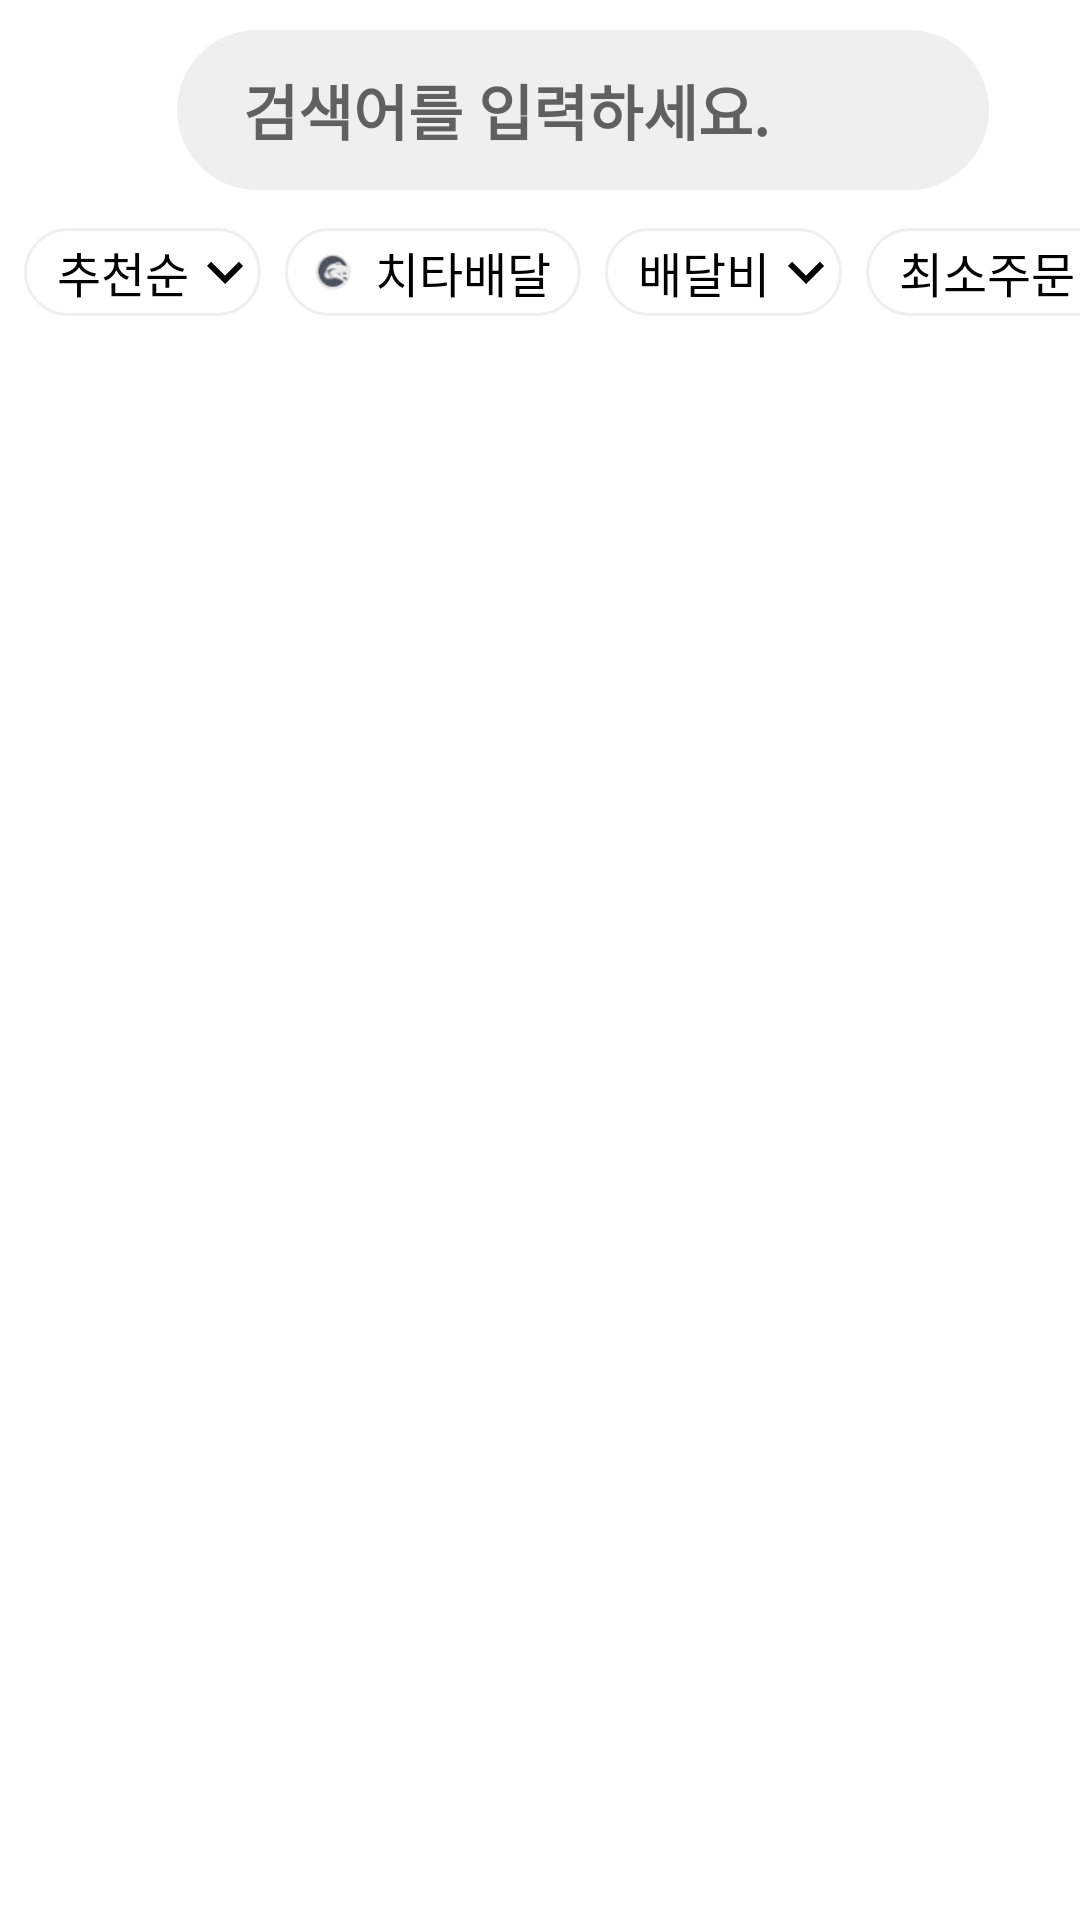

Named icons in this screenshot (1080×1920) and their centers, (x=x, y=y):
cheetah: (x=332, y=271)
